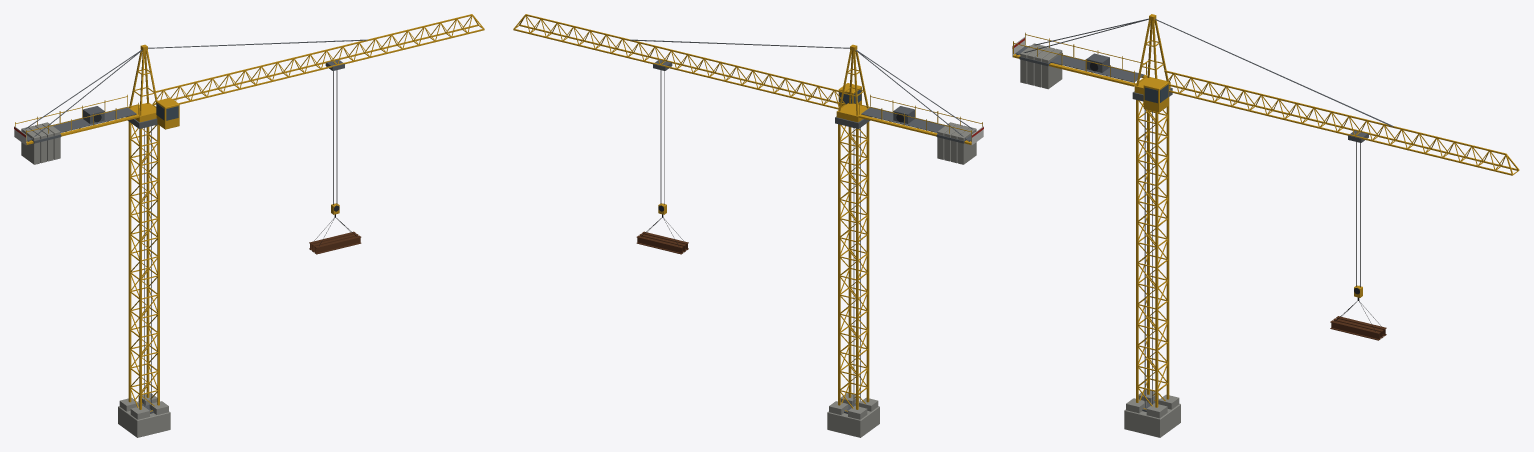
The model's file is gs-crane.glb.
The picture shows the model from 3 angles, left to right: view 1: azimuth 30°, elevation 25°; view 2: azimuth 150°, elevation 25°; view 3: azimuth 330°, elevation 25°; orthographic projection. The views are drawn at different scales.
Visible parts, largest first — view 1: gs-crane; view 2: gs-crane; view 3: gs-crane.
Boxes of the visible parts, bbox=[...] form: gs-crane: bbox=[14, 14, 484, 437]; gs-crane: bbox=[513, 14, 983, 437]; gs-crane: bbox=[1012, 14, 1519, 437].
Size of the model in its own units: 41.11 by 32.4 by 3.77.
